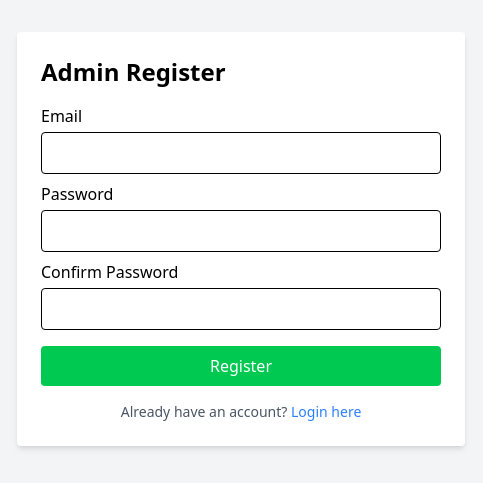
it: Register Component › shows error when passwords do not match
The width and height of the screenshot is (483, 483).
Type "user@example.com" into the field labelled "Email".
click(241, 153); type("user@example.com")  # box [41,132,441,174]
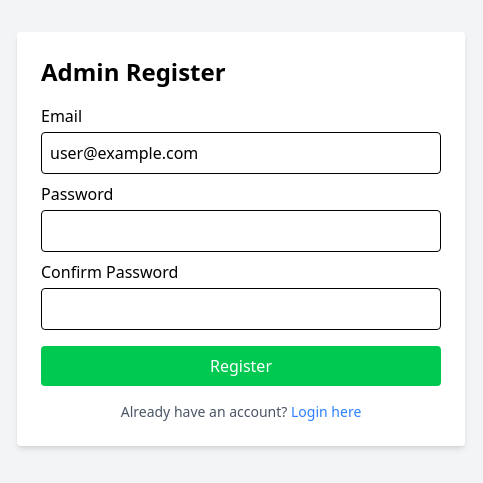
Type "abc123" into the password field labelled "Password".
click(241, 231); type("abc123")  # box [41,210,441,252]
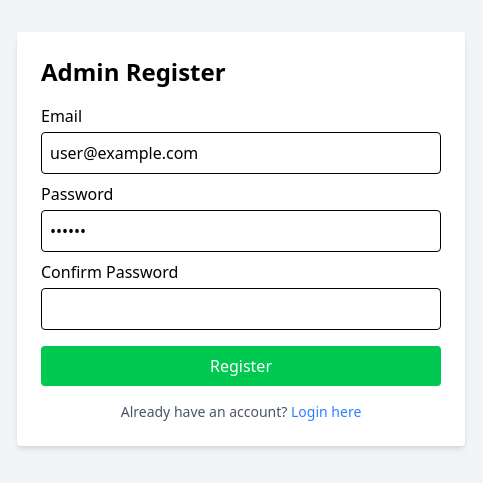
Type "xyz456" into the password field labelled "Confirm Password".
click(241, 309); type("xyz456")  # box [41,288,441,330]
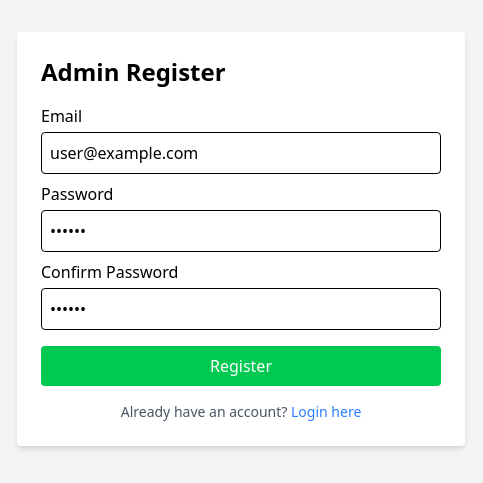
Click the button "Register".
click(241, 366)  # box [41,346,441,386]
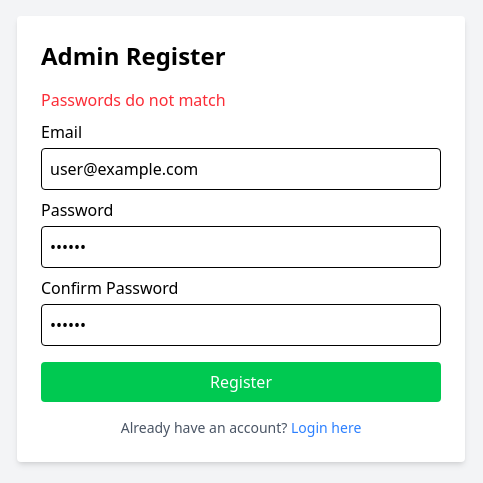
Check: the text "Passwords do not match" is shown, box [41,89,226,111]
